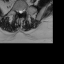CCS_severe_stenosis: (19, 8, 21, 15)
LFS_normal: (23, 6, 25, 13)
LLS_normal: (21, 8, 23, 14)
RFS_normal: (16, 7, 18, 14)
RLS_normal: (18, 8, 19, 14)
